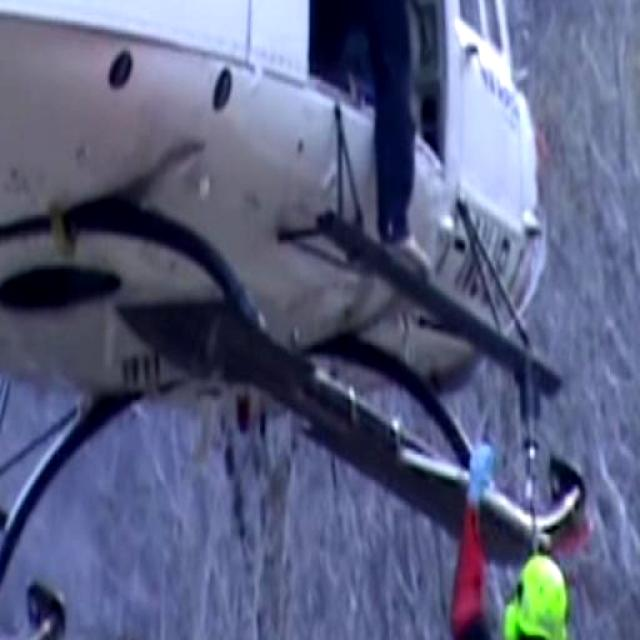drone: (0, 0, 594, 640)
